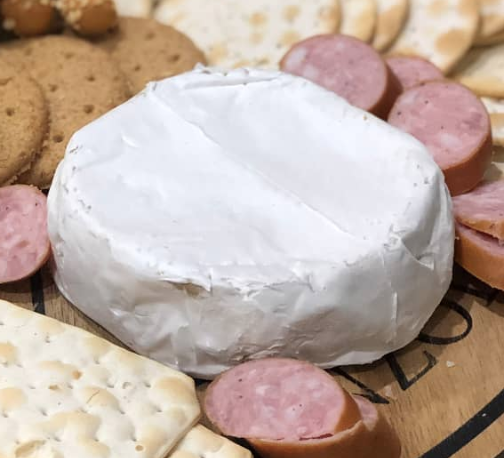camembert: (46, 67, 459, 378)
